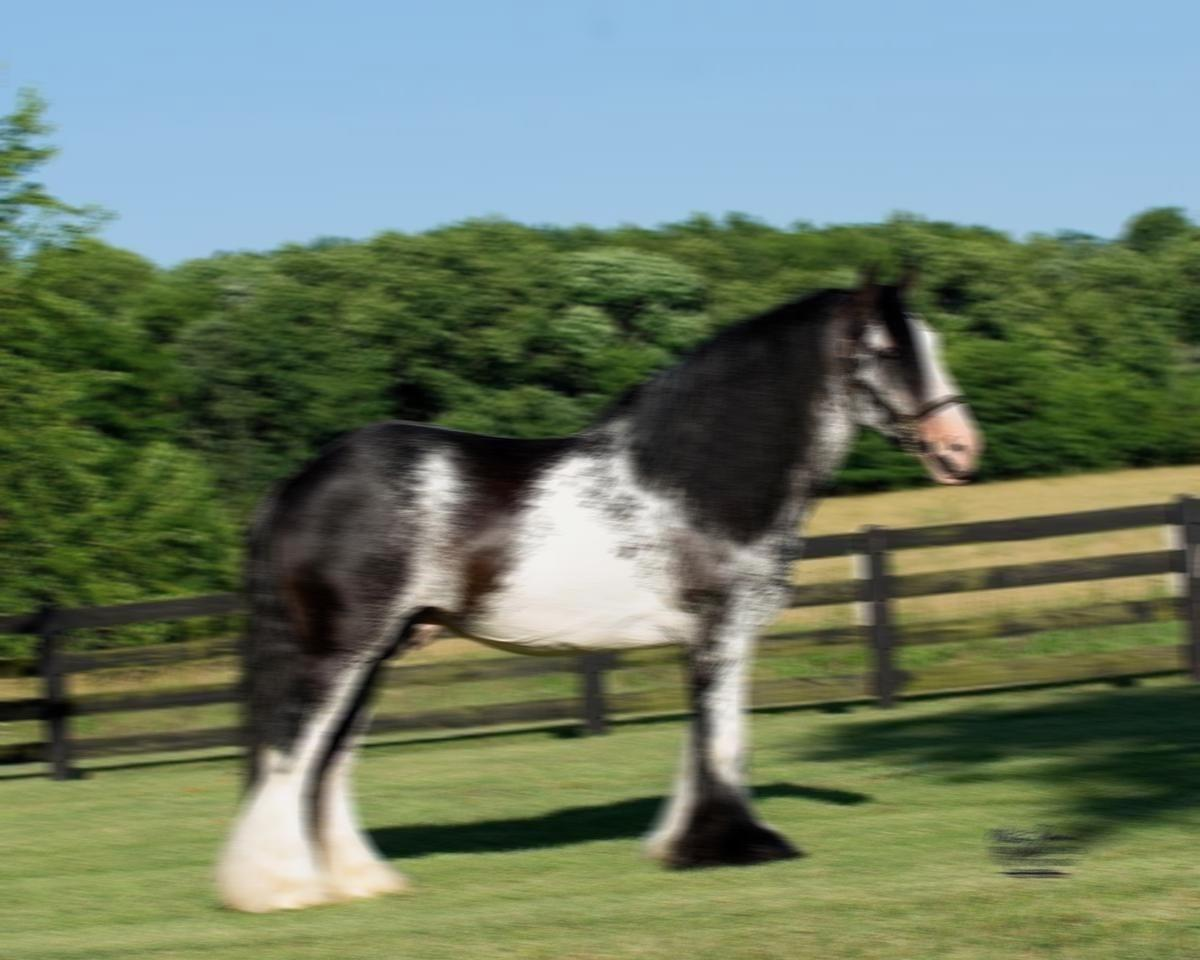horse: (210, 253, 983, 914)
